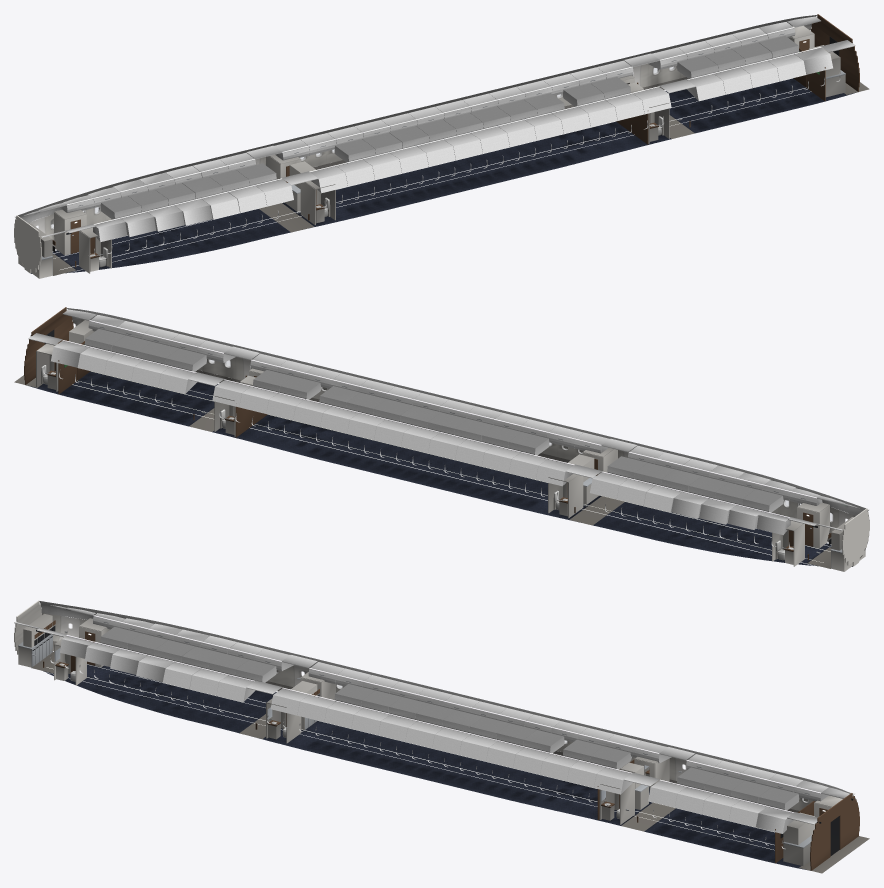
File: b787-9-cabin.glb
3 renders of one model, top to bottom at view 1: azimuth 30°, elevation 25°; view 2: azimuth 150°, elevation 25°; view 3: azimuth 330°, elevation 25°, orthographic.
Parts seen in each view (by area): view 1: Cabin_Overhead, Cabin_Floor, Cabin_Monuments, Cabin_Lining, Cabin_Reveals; view 2: Cabin_Overhead, Cabin_Floor, Cabin_Monuments, Cabin_Lining, Cabin_Reveals; view 3: Cabin_Overhead, Cabin_Floor, Cabin_Monuments, Cabin_Lining, Cabin_Reveals.
Part boxes in pixels (bbox=[...]): Cabin_Overhead: bbox=[14, 15, 855, 241]; Cabin_Floor: bbox=[31, 78, 869, 275]; Cabin_Monuments: bbox=[14, 14, 859, 278]; Cabin_Lining: bbox=[14, 15, 816, 265]; Cabin_Reveals: bbox=[51, 66, 840, 256]; Cabin_Overhead: bbox=[28, 309, 869, 535]; Cabin_Floor: bbox=[14, 371, 852, 568]; Cabin_Monuments: bbox=[24, 307, 869, 571]; Cabin_Lining: bbox=[67, 308, 869, 558]; Cabin_Reveals: bbox=[43, 359, 832, 549]; Cabin_Overhead: bbox=[14, 605, 855, 833]; Cabin_Floor: bbox=[31, 652, 869, 873]; Cabin_Monuments: bbox=[14, 600, 859, 870]; Cabin_Lining: bbox=[39, 601, 859, 831]; Cabin_Reveals: bbox=[50, 654, 808, 849].
Size of the model in its own units: 49.18 by 2.75 by 5.72.
Materials: 22 (8 with a texture image).
